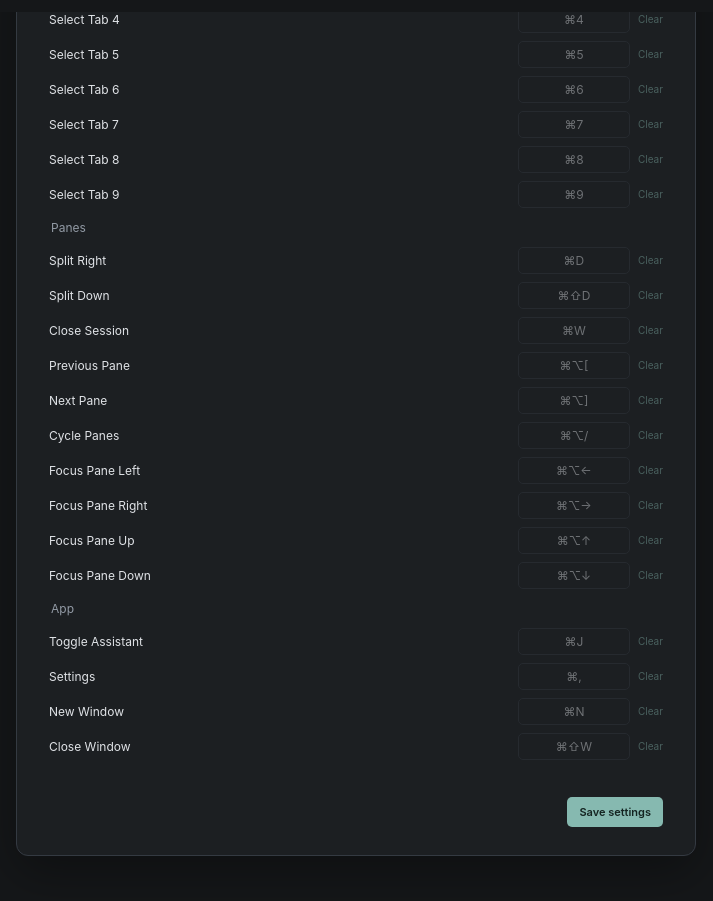
Scenario: keeps settings open and shows save errors
The image size is (713, 901).
(page scrolled)
Click the button "Save settings": (615, 812) [567,797,663,827]
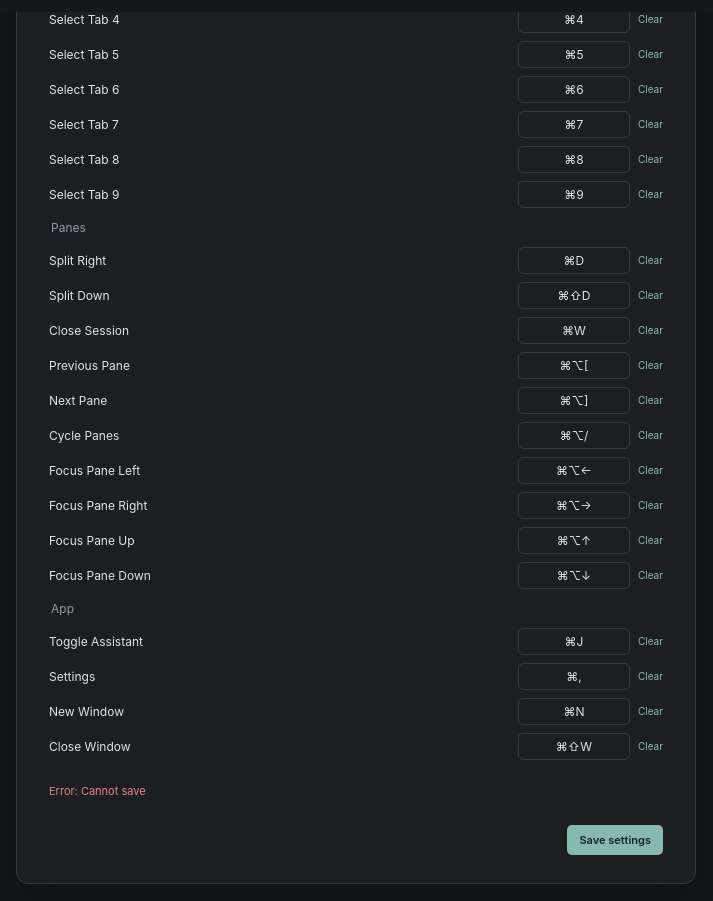
Now the message shows "Cannot save", box [49,784,146,798]
